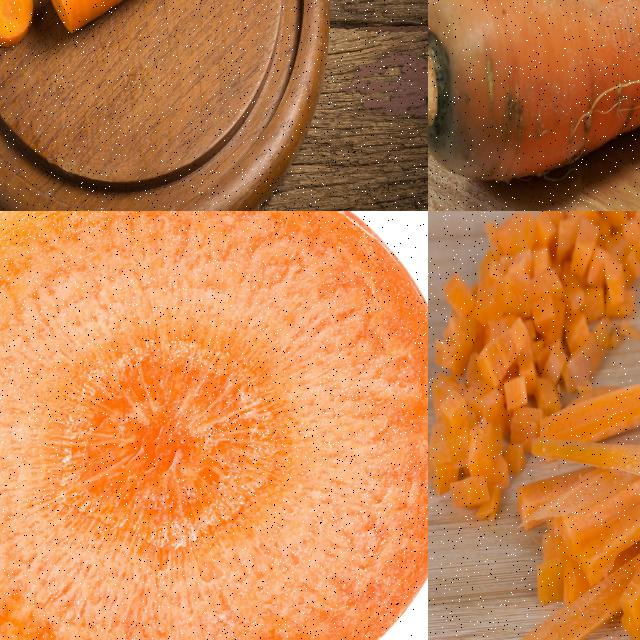carrot: (0, 211, 427, 639), (503, 321, 639, 639), (428, 0, 639, 186), (428, 0, 635, 70)
